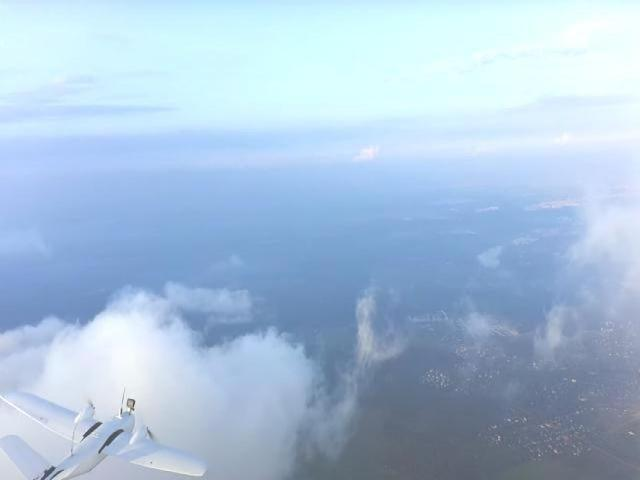iha: (0, 373, 215, 480)
